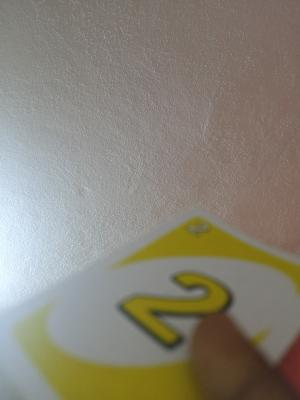num_2: (93, 265, 284, 351)
